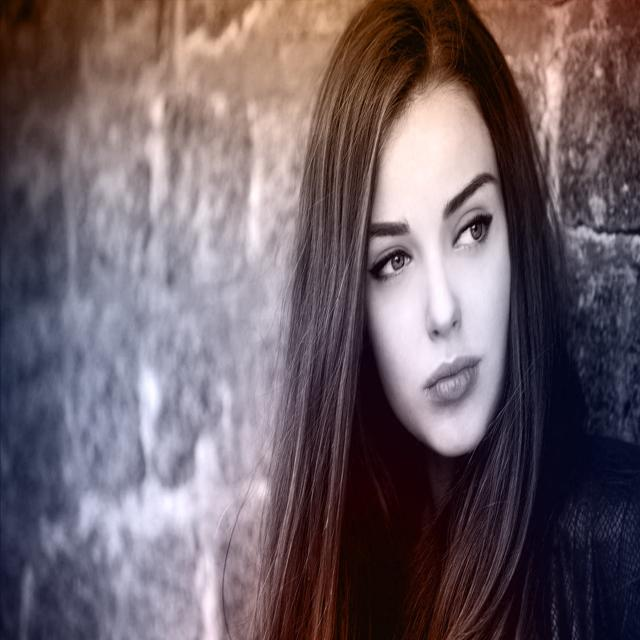mobile_phonerotation: (218, 1, 637, 637)
